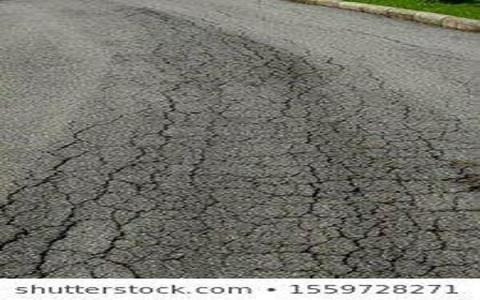patchy roads: (74, 29, 359, 224)
